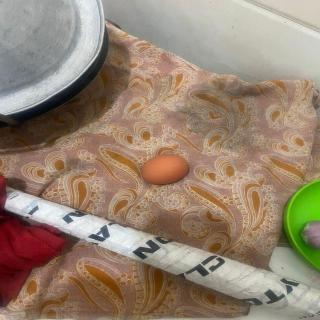Telur: (141, 153, 191, 187)
